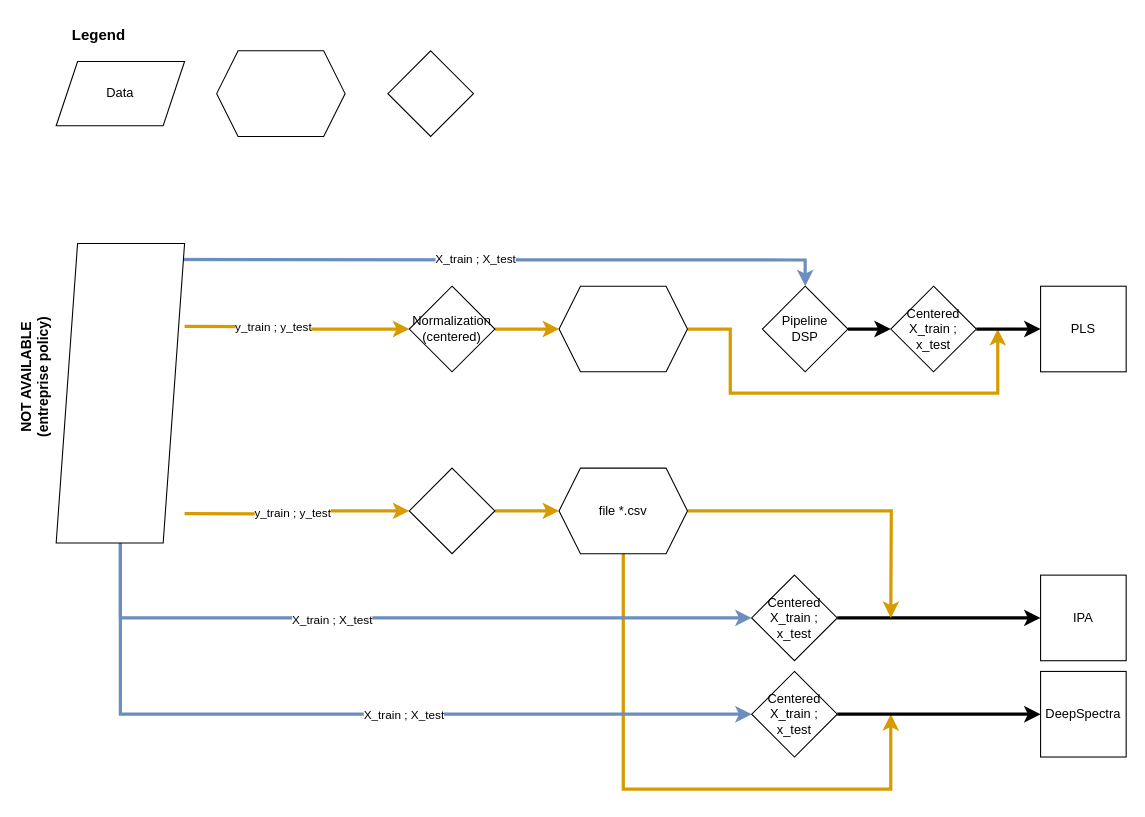
The diagram is 1145 pixels wide and 817 high, and some of its shapes have lost their labels. The shapes that lost their labels are listed below. From the top down, each one's centre as x and y in pixels, then its label:
the point at 280,93: File
the point at 430,93: Process
the point at 622,328: file *.mat
the point at 120,392: Raw data - X_train - X_test - y_train - y_trest
the point at 451,510: Normalization (centered reduced)
